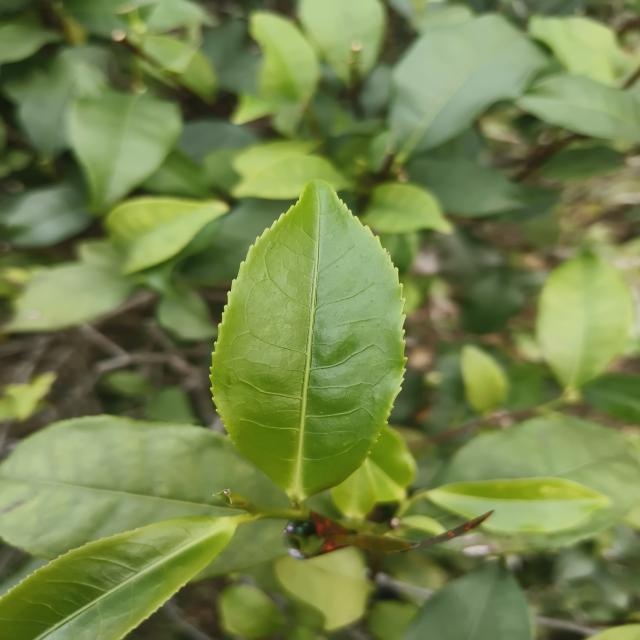Leaf: (211, 180, 405, 502), (0, 415, 289, 559), (0, 517, 239, 640), (442, 416, 640, 549), (390, 13, 546, 162), (67, 90, 182, 210), (536, 252, 632, 390), (403, 561, 532, 640), (428, 478, 609, 533), (19, 47, 107, 158), (106, 197, 229, 274), (4, 262, 133, 332), (516, 74, 640, 143), (298, 0, 386, 86), (408, 156, 524, 217), (4, 185, 93, 248), (196, 519, 287, 579), (232, 155, 349, 200), (361, 182, 452, 234), (461, 345, 507, 414), (582, 374, 640, 424), (331, 458, 376, 519), (144, 386, 199, 424)
